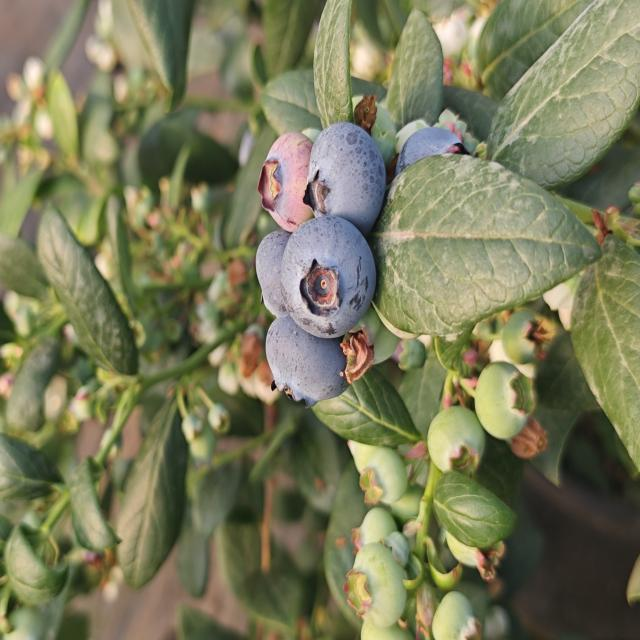ripe: (277, 219, 379, 344), (302, 112, 387, 234), (243, 214, 319, 329), (260, 316, 358, 404), (392, 121, 474, 199)
